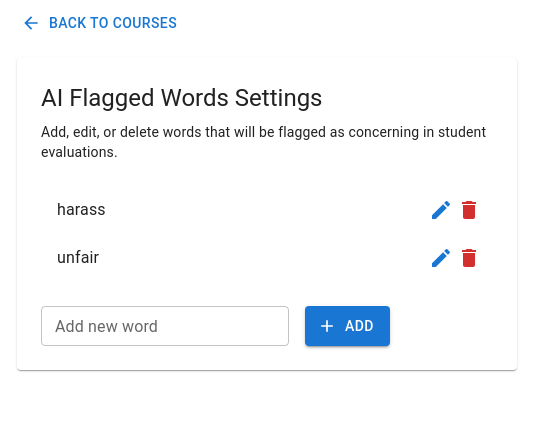
Scenario: Settings: flagged words › adds a word, shows the list the server returns, and clears the field
Expected: the text "harass" is shown, [57,200,106,219]
Type "  bully " into the field labelled "Add new word". click: (165, 326)
box: [41,306,289,346]
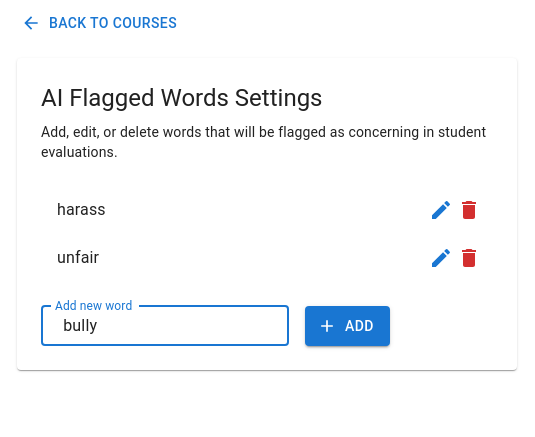
Click the button "Add". click: (347, 326)
box: [305,306,390,346]
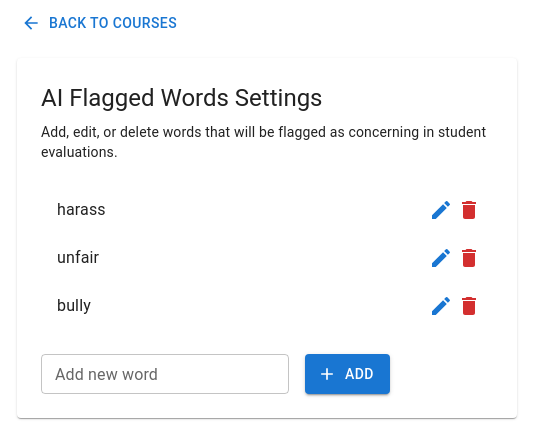
Result: the text "bully" is shown at [57,296,91,315]
Result: the field labelled "Add new word" is empty at [41,354,289,394]
